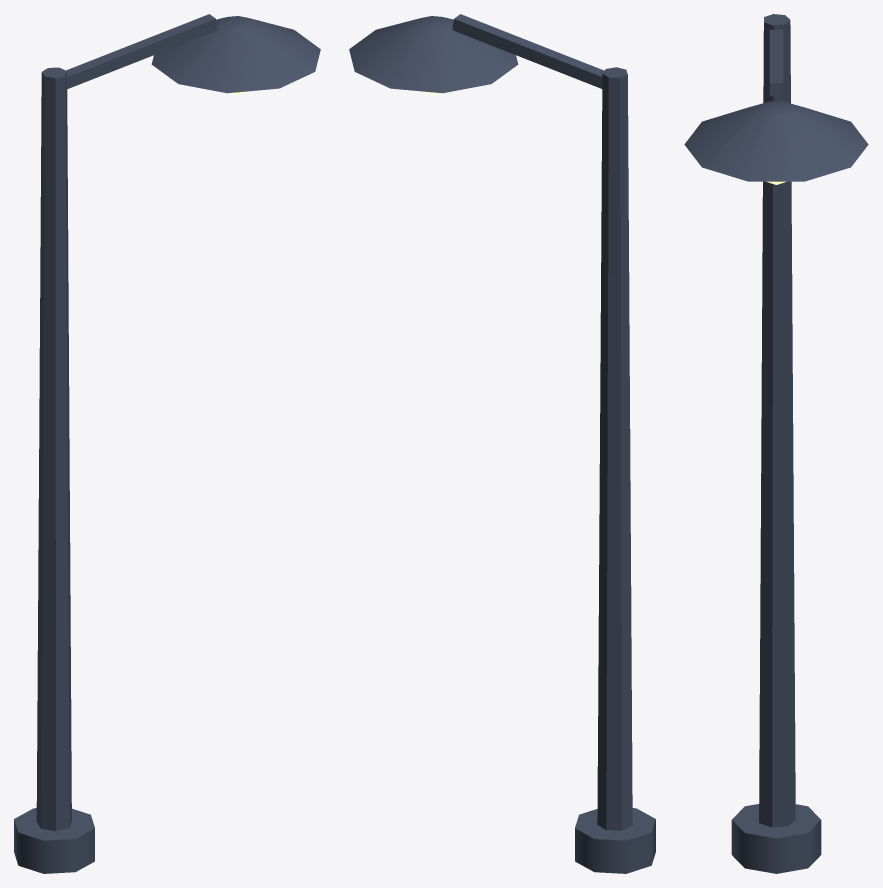
The model's file is welt_hofleuchte.glb.
The picture shows the model from 3 angles, left to right: view 1: azimuth 30°, elevation 25°; view 2: azimuth 150°, elevation 25°; view 3: azimuth 270°, elevation 25°; orthographic projection. The views are drawn at different scales.
Visible parts, largest first — view 1: welt_hofleuchte; view 2: welt_hofleuchte; view 3: welt_hofleuchte.
Part boxes in pixels (x1,y1,x2,y2): welt_hofleuchte: [14, 14, 320, 873]; welt_hofleuchte: [349, 14, 655, 873]; welt_hofleuchte: [684, 14, 868, 873].
Bounding box in the file's own units: 1.27 × 3.37 × 0.66.
